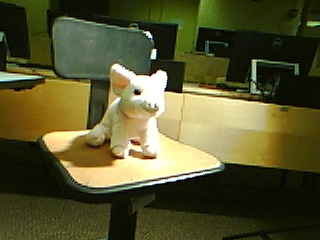piggy: (84, 62, 169, 160)
